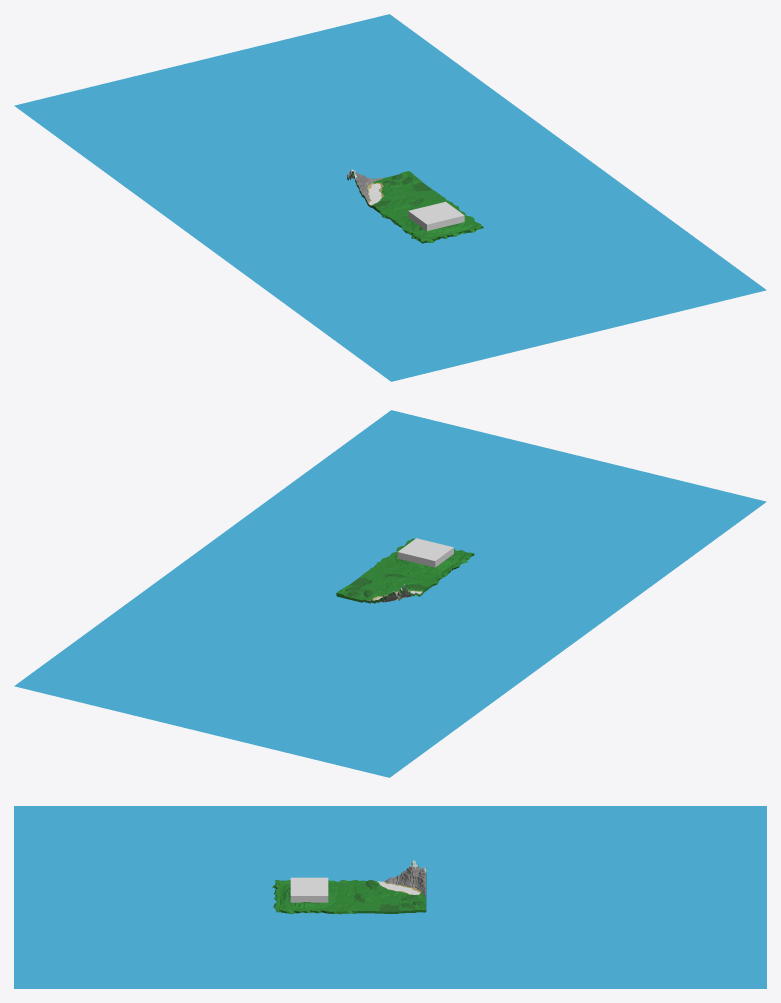
File: MainWorld.fbx
3 renders of one model, top to bottom at view 1: azimuth 30°, elevation 25°; view 2: azimuth 150°, elevation 25°; view 3: azimuth 270°, elevation 25°, orthographic.
Visible parts, largest first — view 1: Plane, Cube; view 2: Plane, Cube; view 3: Plane, Cube.
Boxes of the visible parts, x1,y1,x2,y2 form: Plane: (14, 14, 766, 381); Cube: (408, 201, 464, 230); Plane: (14, 410, 766, 777); Cube: (397, 538, 453, 567); Plane: (14, 806, 766, 988); Cube: (290, 877, 328, 902).
Bounding box in the file's own units: 107023 × 6710 × 186186.
